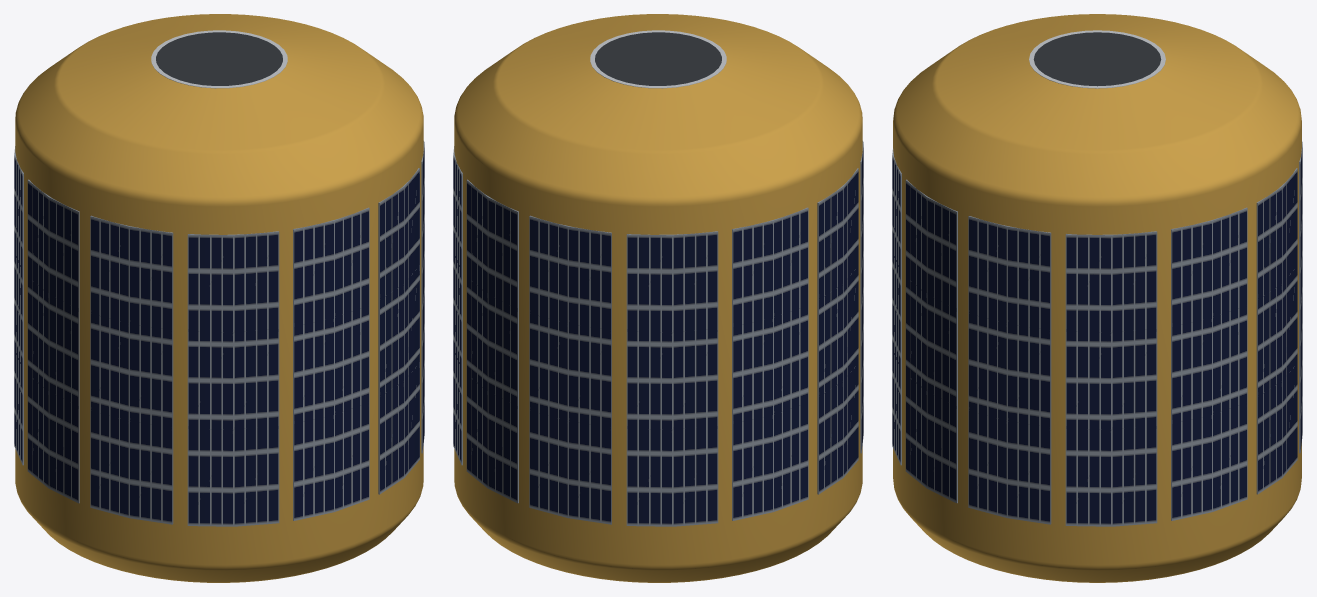
File: htv_logistics.glb
The picture shows the model from 3 angles, left to right: view 1: azimuth 30°, elevation 25°; view 2: azimuth 150°, elevation 25°; view 3: azimuth 270°, elevation 25°; orthographic projection.
Parts seen in each view (by area): view 1: body; view 2: body; view 3: body.
Boxes of the visible parts, box(x1,y1,x2,y2) form: body: box(14, 14, 424, 582); body: box(453, 14, 863, 582); body: box(892, 14, 1302, 582).
Size of the model in its own units: 2.77 by 3.5 by 2.77.
9 materials, 1 textured.
